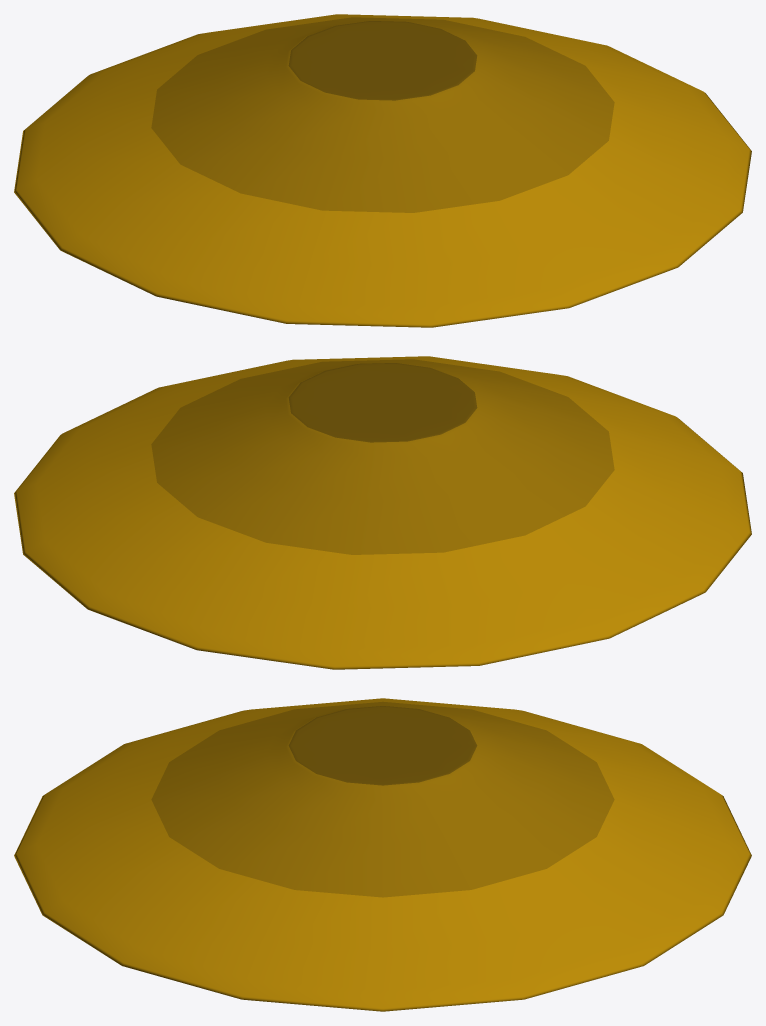
File: anthole.glb
The picture shows the model from 3 angles, top to bottom: view 1: azimuth 30°, elevation 25°; view 2: azimuth 150°, elevation 25°; view 3: azimuth 270°, elevation 25°; orthographic projection.
Visible parts, largest first — view 1: Cylinder.008; view 2: Cylinder.008; view 3: Cylinder.008.
Boxes of the visible parts, <box> form: Cylinder.008: <box>14,14,751,327</box>; Cylinder.008: <box>14,356,751,669</box>; Cylinder.008: <box>14,698,751,1011</box>.
Bounding box in the file's own units: 4.51 × 0.7464 × 4.51.
